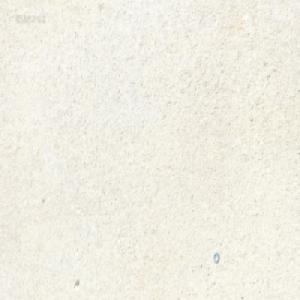Washer: (212, 252, 219, 263)
